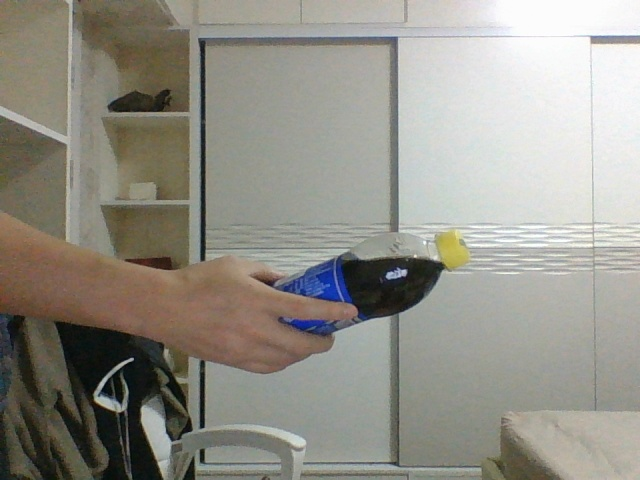Cola: (272, 230, 473, 335)
